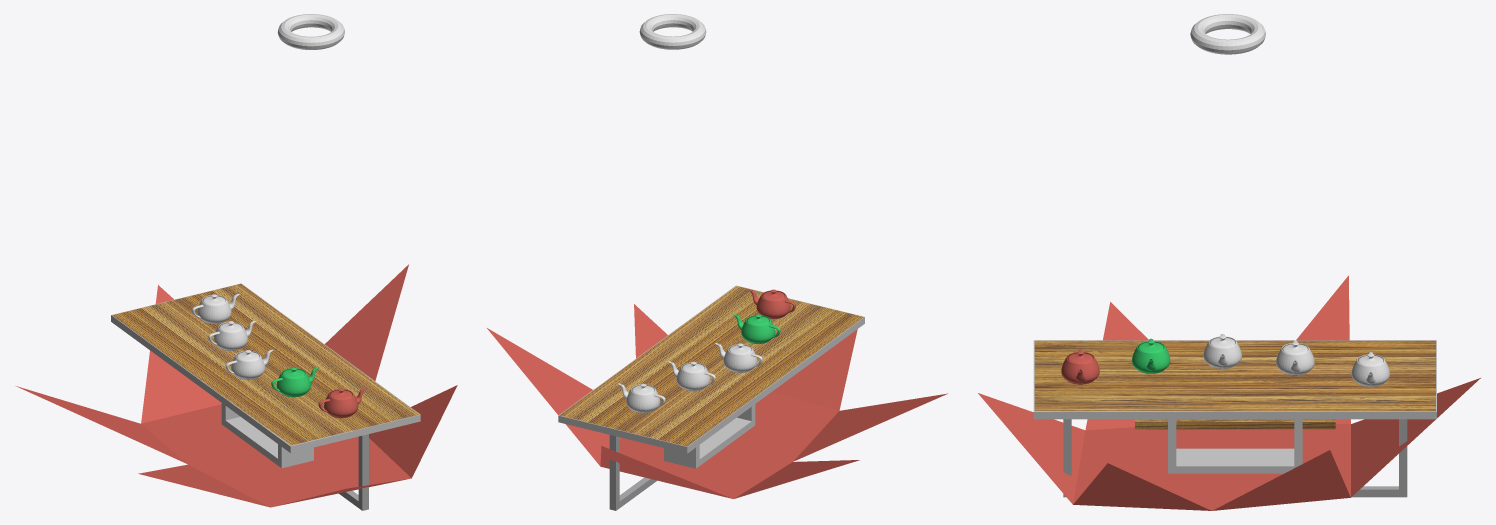
Rendered from uuu.dae.
3 views of the same model, side by side, from view 1: azimuth 30°, elevation 25°; view 2: azimuth 150°, elevation 25°; view 3: azimuth 270°, elevation 25° (orthographic). The views are drawn at different scales.
Parts seen in each view (by area): view 1: g_t_Object, g_t_Rectangle0, g_t_Rectangle2, g_t_Line040, g_nt_Torus_001, g_t_Line037, g_t_004, g_t_003, g_nt_001, g_nt_002, g_nt_teapot; view 2: g_t_Object, g_t_Rectangle0, g_t_Rectangle2, g_t_Line040, g_nt_Torus_001, g_t_Line037, g_nt_001, g_nt_002, g_nt_teapot, g_t_003, g_t_004; view 3: g_t_Object, g_t_Rectangle0, g_t_Rectangle2, g_t_Line040, g_nt_Torus_001, g_t_Rectangle1, g_t_Line037, g_t_004, g_nt_001, g_t_003, g_nt_002, g_nt_teapot.
Boxes of the visible parts, x1,y1,x2,y2 form: g_t_Object: (16,264,457,507); g_t_Rectangle0: (112,284,419,445); g_t_Rectangle2: (111,283,420,452); g_t_Line040: (221,403,313,468); g_nt_Torus_001: (277,14,344,49); g_t_Line037: (339,434,368,510); g_t_004: (318,388,366,418); g_t_003: (271,367,319,397); g_nt_001: (208,321,256,350); g_nt_002: (225,349,273,379); g_nt_teapot: (191,294,239,323); g_t_Object: (487,304,947,498); g_t_Rectangle0: (559,286,863,446); g_t_Rectangle2: (558,285,864,453); g_t_Line040: (664,404,755,468); g_nt_Torus_001: (639,14,706,49); g_t_Line037: (609,435,656,510); g_nt_001: (668,361,715,391); g_nt_002: (715,343,762,372); g_nt_teapot: (618,383,665,413); g_t_003: (733,314,780,343); g_t_004: (748,289,795,319); g_t_Object: (978,275,1480,510); g_t_Rectangle0: (1034,340,1435,411); g_t_Rectangle2: (1033,340,1436,419); g_t_Line040: (1168,419,1302,473); g_nt_Torus_001: (1190,14,1265,54); g_t_Rectangle1: (1135,419,1335,429); g_t_Line037: (1063,419,1407,497); g_t_004: (1061,349,1099,384); g_nt_001: (1276,340,1314,375); g_t_003: (1132,338,1170,373); g_nt_002: (1203,334,1241,368); g_nt_teapot: (1351,352,1389,386).
Size of what is drawn, in the model's own units: 7.62 by 7.65 by 8.01.
